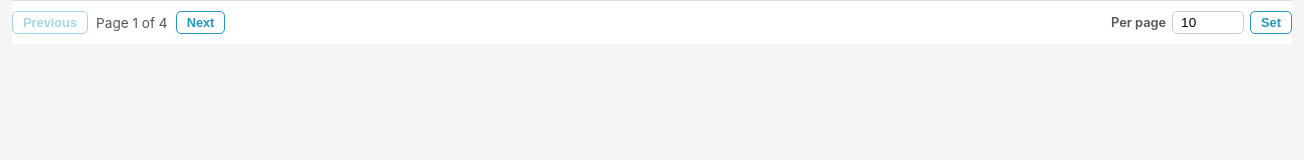
Scenario: Pager › shows an error and does not submit the page size 0
This screenshot has width=1304, height=160.
Step 1. Replace the text in the number field labelled "Per page" with "0" → (1208, 22), box [1172,11,1244,34]
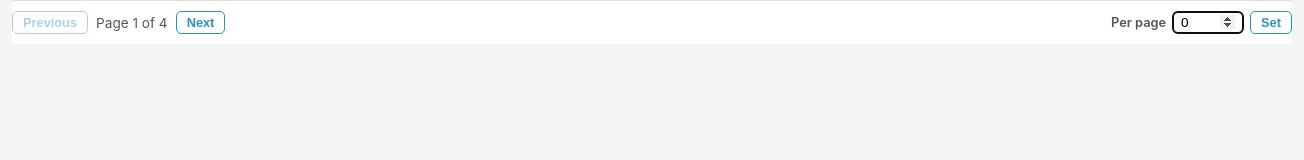
Step 2. Click the button "Set" → (1271, 22), box [1250,11,1292,34]
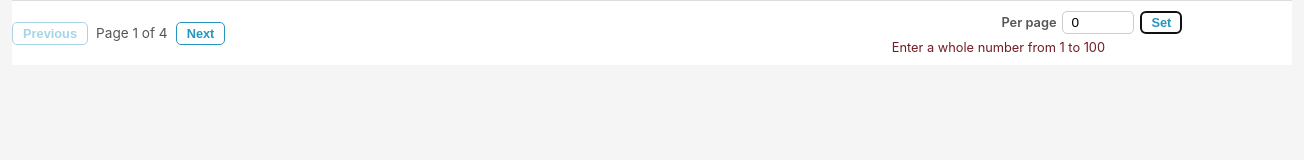
Expected: the text "Enter a whole number from 1 to 100" is shown, [892,40,1105,55]
